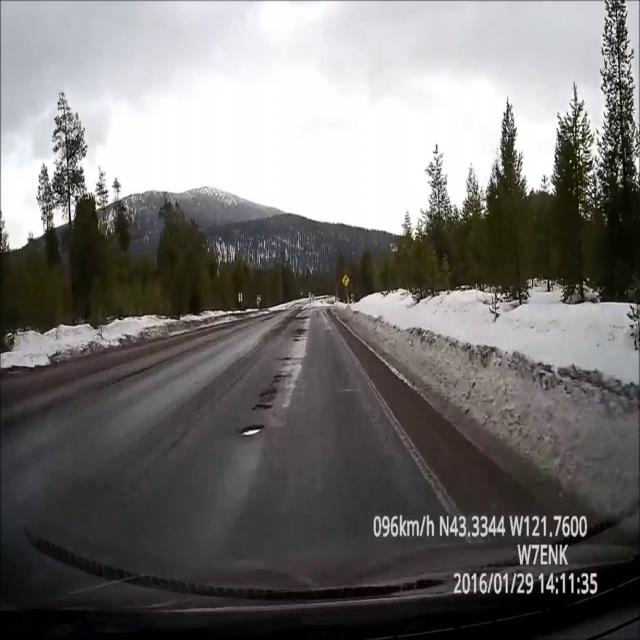Pothole: (238, 423, 266, 438), (259, 390, 278, 404), (252, 403, 273, 410), (294, 315, 308, 320), (282, 357, 292, 361), (297, 328, 306, 332), (273, 375, 283, 378), (295, 338, 300, 342)
